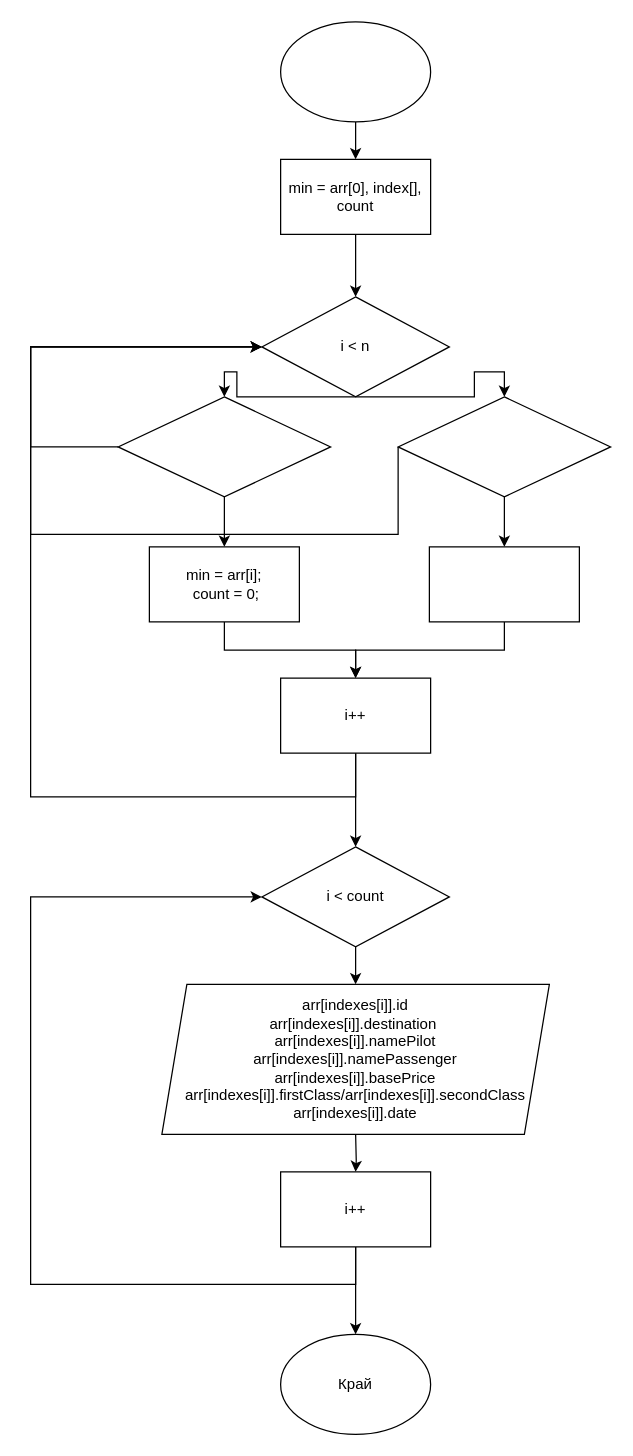
Image size: 633x1456. Some labels were removed from this diagram. The shapes that lost their labels are listed below. From the top down, each one's centre as x and y in pixels, then its label:
At point (355, 71): "Начало".
At point (224, 446): "arr[i].basePrice < min.basePrice".
At point (504, 446): "arr[i].basePrice == min.basePrice".
At point (503, 584): "indexes[count++] = i;".
